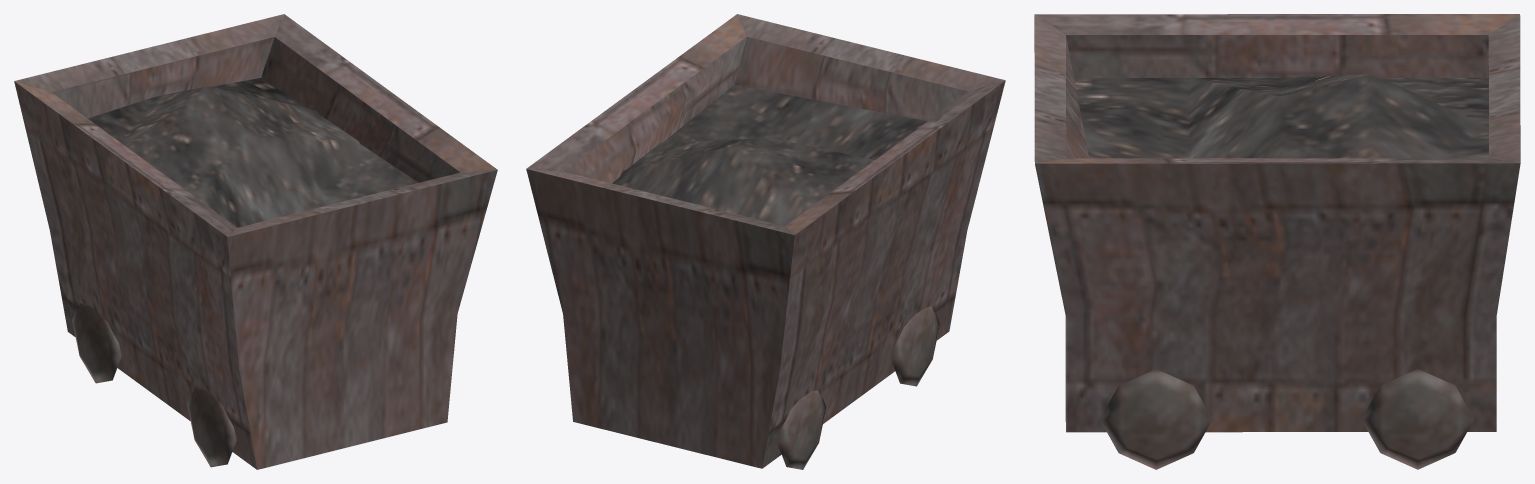
File: LoveDeath_MineCart_Art.glb
The picture shows the model from 3 angles, left to right: view 1: azimuth 30°, elevation 25°; view 2: azimuth 150°, elevation 25°; view 3: azimuth 270°, elevation 25°; orthographic projection. The views are drawn at different scales.
Visible parts, largest first — view 1: LoveDeath_MineCart_Art; view 2: LoveDeath_MineCart_Art; view 3: LoveDeath_MineCart_Art.
Boxes of the visible parts, bbox=[...] form: LoveDeath_MineCart_Art: bbox=[14, 14, 497, 469]; LoveDeath_MineCart_Art: bbox=[526, 14, 1005, 469]; LoveDeath_MineCart_Art: bbox=[1034, 14, 1520, 469].
Size of the model in its own units: 1.62 by 1.68 by 2.2.
Materials: 1 (1 with a texture image).
